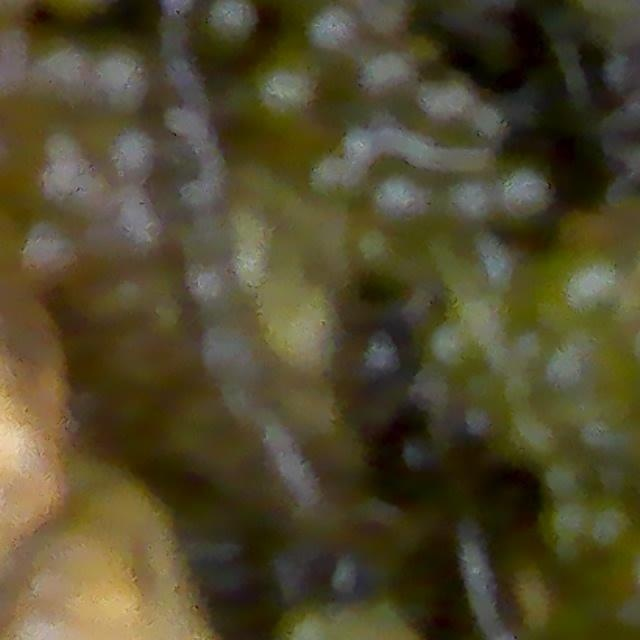SeaGrape: (500, 169, 550, 220), (309, 6, 357, 54), (207, 0, 257, 45)
